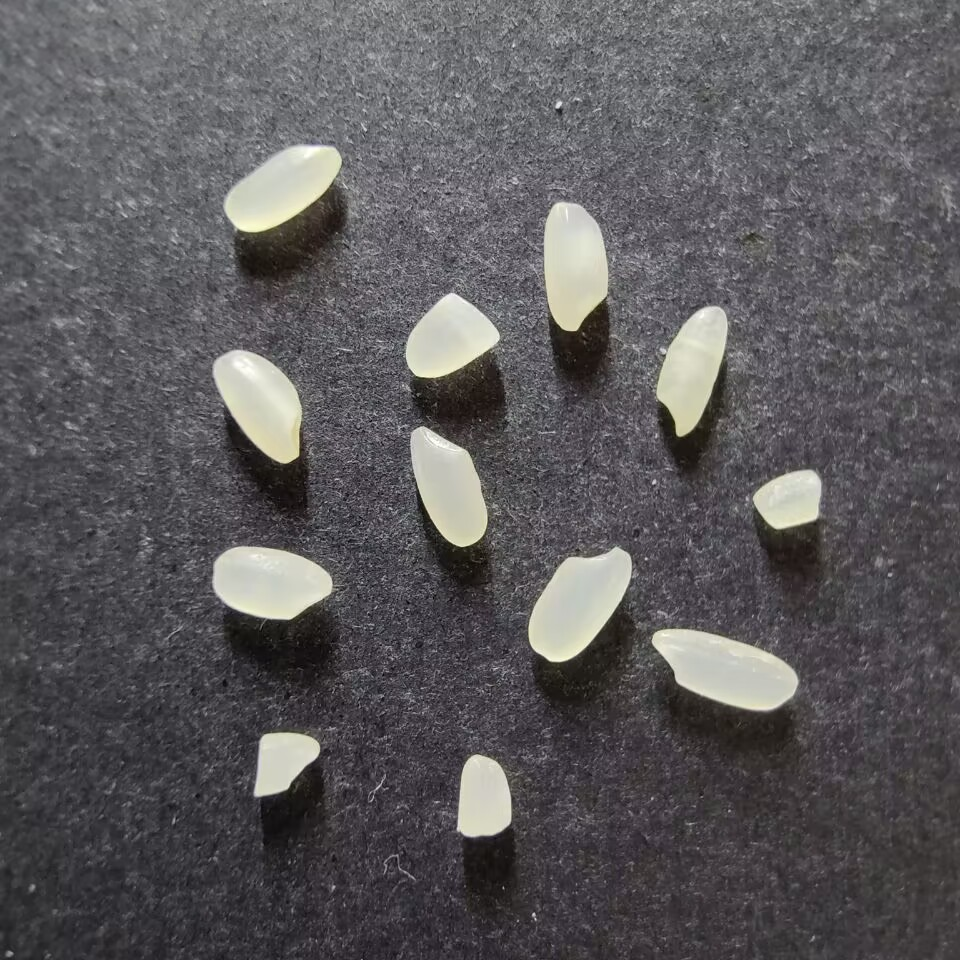broken: (404, 292, 502, 378), (455, 754, 512, 837), (251, 731, 320, 797), (751, 469, 822, 529)
rice: (650, 627, 799, 711), (526, 546, 632, 663), (223, 143, 343, 233), (211, 349, 303, 463), (655, 304, 729, 437), (409, 425, 489, 547), (211, 546, 334, 620), (542, 201, 608, 332)
